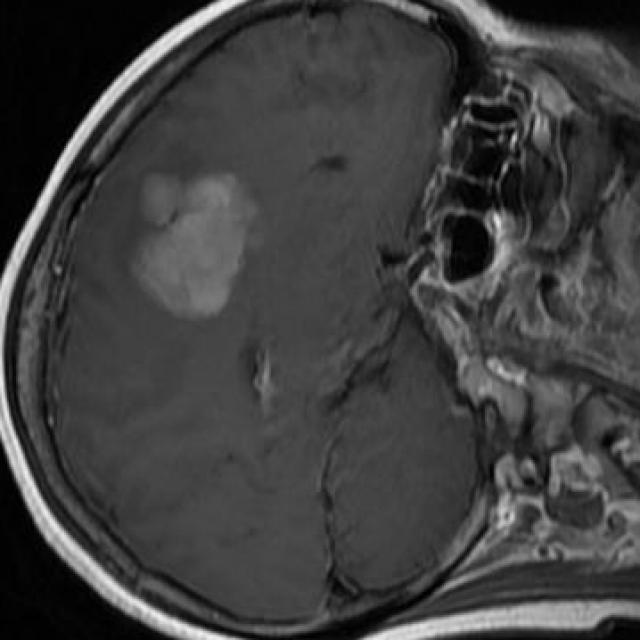meningioma: (132, 175, 255, 319)
